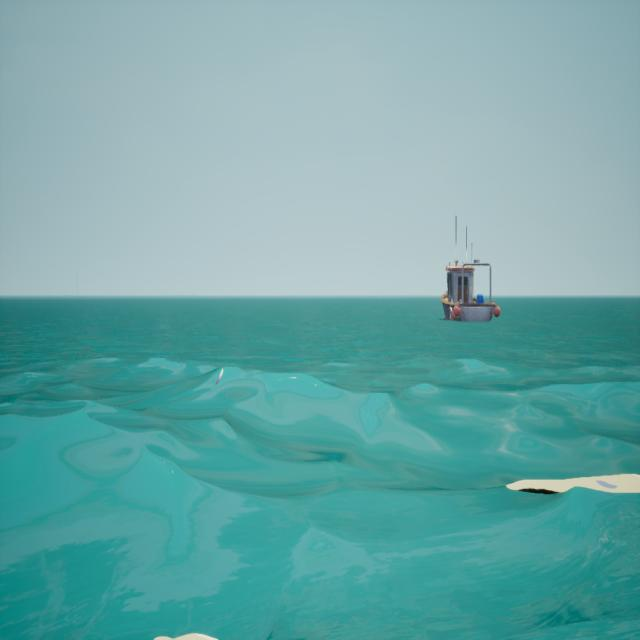ship: (439, 207, 504, 332)
